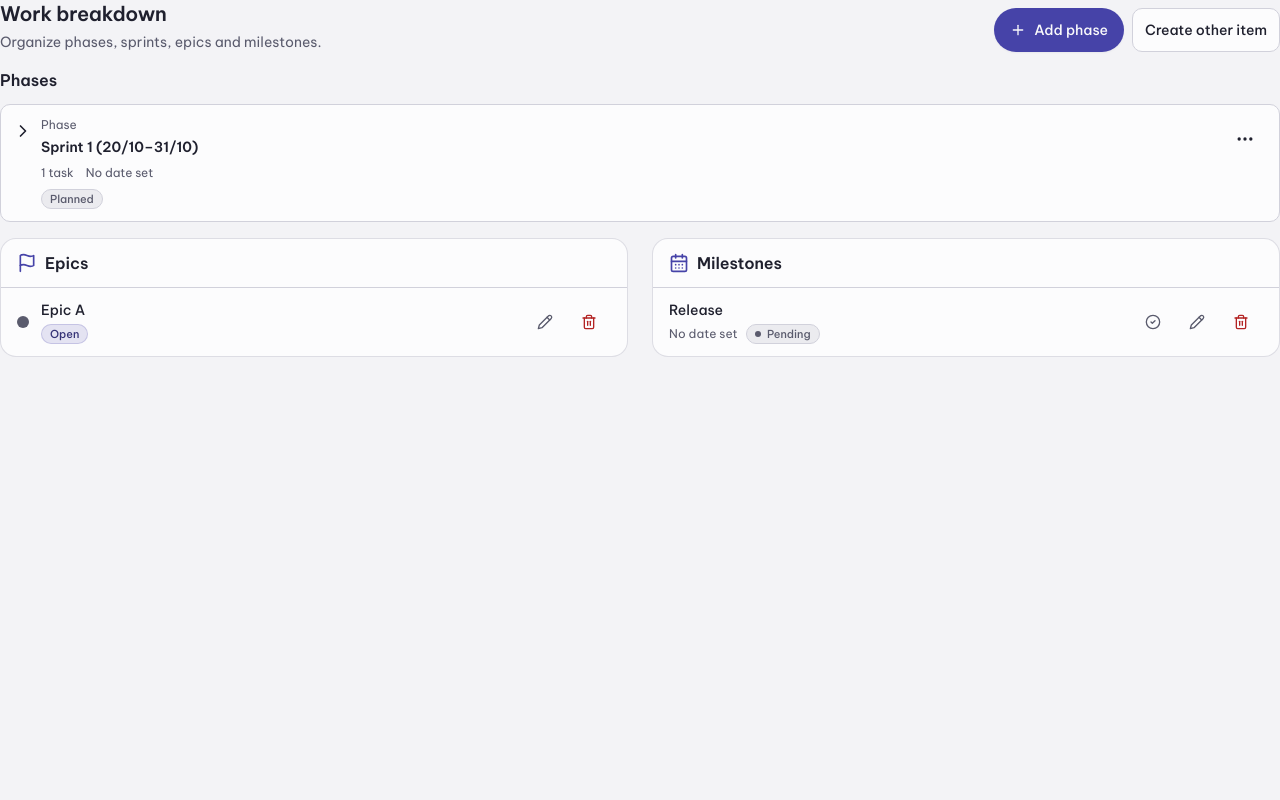
Scenario: WBS localization (en) › labels the addPhase editor
Click the button "Add phase" at (1059, 30), box 994,8 -> 1124,52
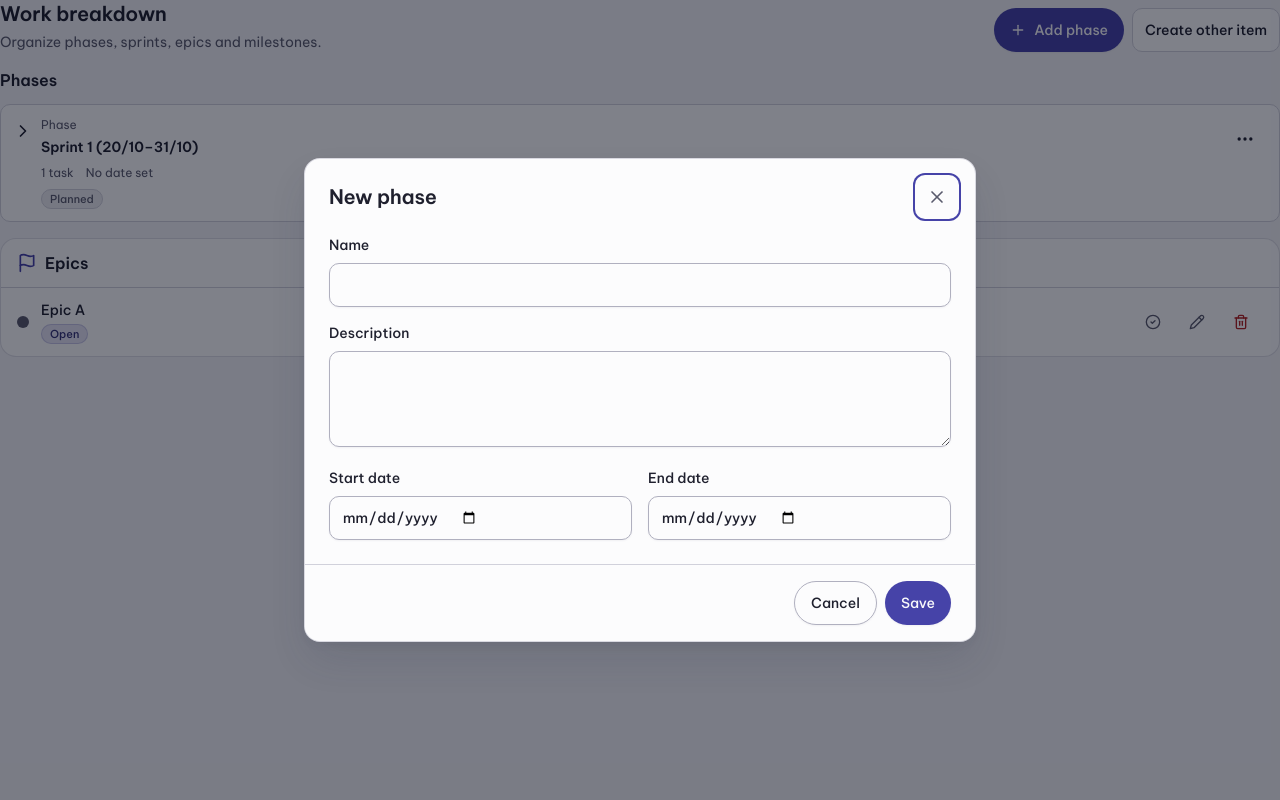
Expected: the field labelled "Name" is shown, 329,263 -> 951,307
Expected: the text box labelled "Description" is shown, 329,351 -> 951,447
Expected: the date field labelled "Start date" is shown, 329,496 -> 632,540
Click the button "Cancel" at (835, 603), box 794,581 -> 877,625
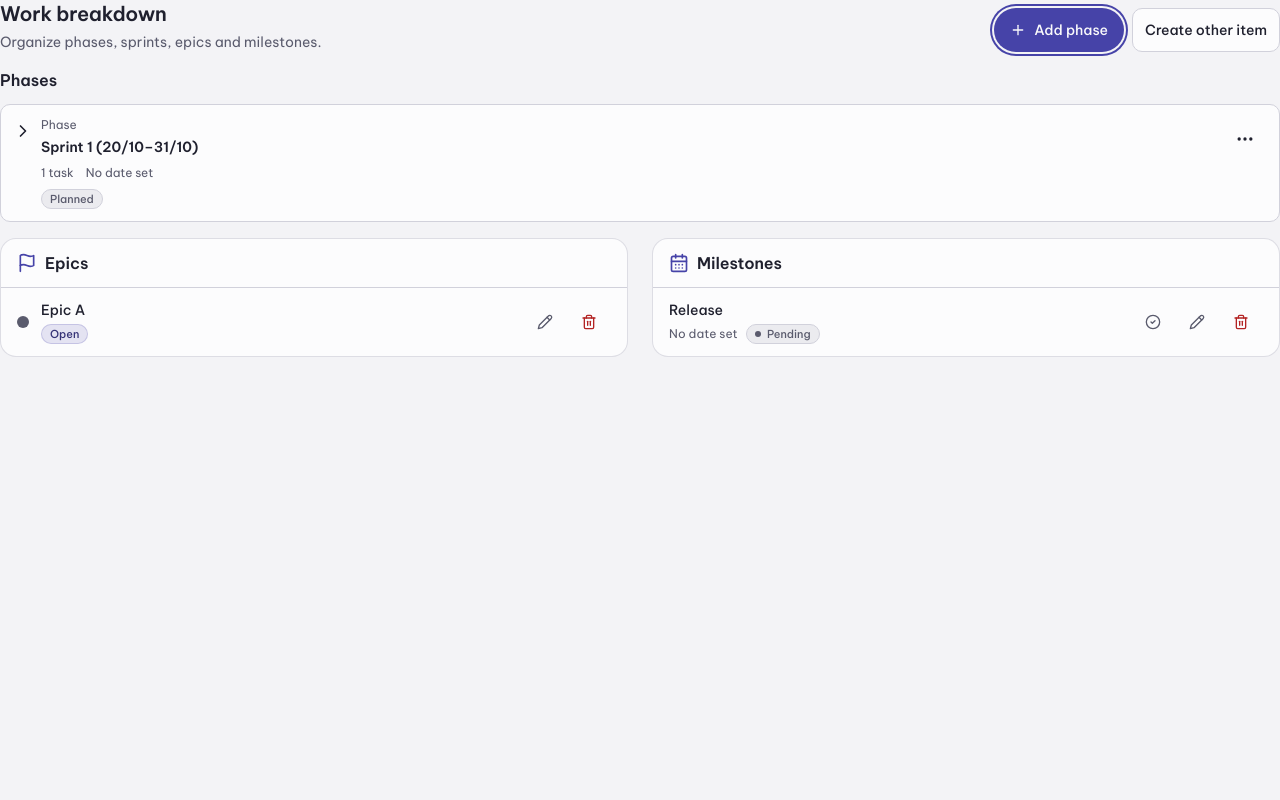
Expected: the dialog is gone
